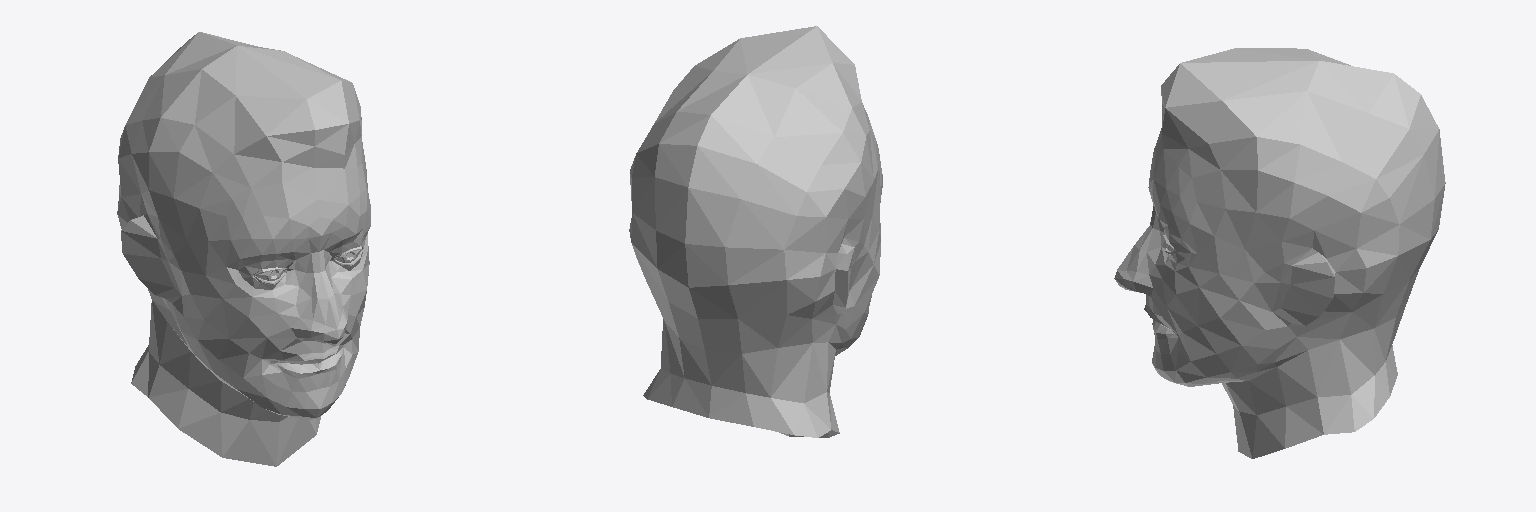
The model's file is cabeza.obj.
3 views of the same model, side by side, from view 1: azimuth 30°, elevation 25°; view 2: azimuth 150°, elevation 25°; view 3: azimuth 270°, elevation 25° (orthographic).
Visible parts, largest first — view 1: casual_male.003_Plane.002; view 2: casual_male.003_Plane.002; view 3: casual_male.003_Plane.002.
Boxes of the visible parts, x1,y1,x2,y2 form: casual_male.003_Plane.002: [117, 32, 370, 466]; casual_male.003_Plane.002: [629, 26, 882, 437]; casual_male.003_Plane.002: [1114, 48, 1445, 458].
Size of the model in its own units: 0.1884 by 0.327 by 0.2508.